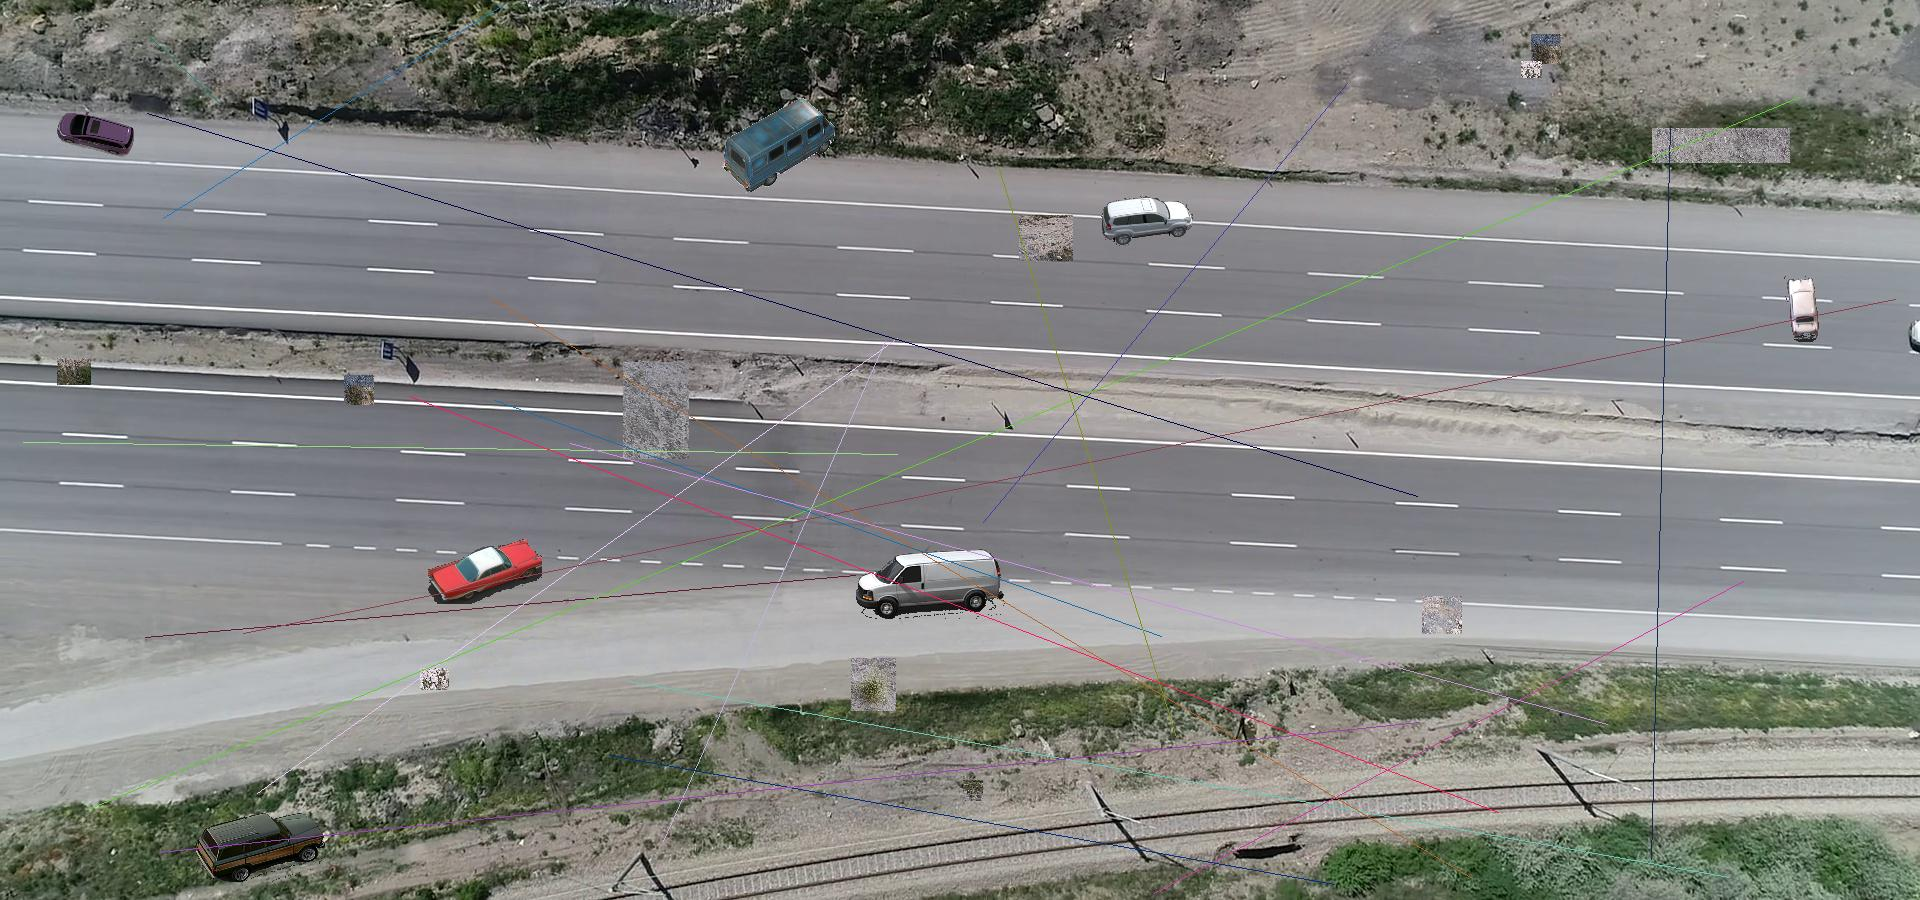arac: (722, 96, 838, 193), (856, 549, 1005, 620), (195, 813, 326, 882), (429, 539, 542, 604), (1101, 193, 1196, 247), (56, 109, 136, 160), (1784, 276, 1820, 345)
